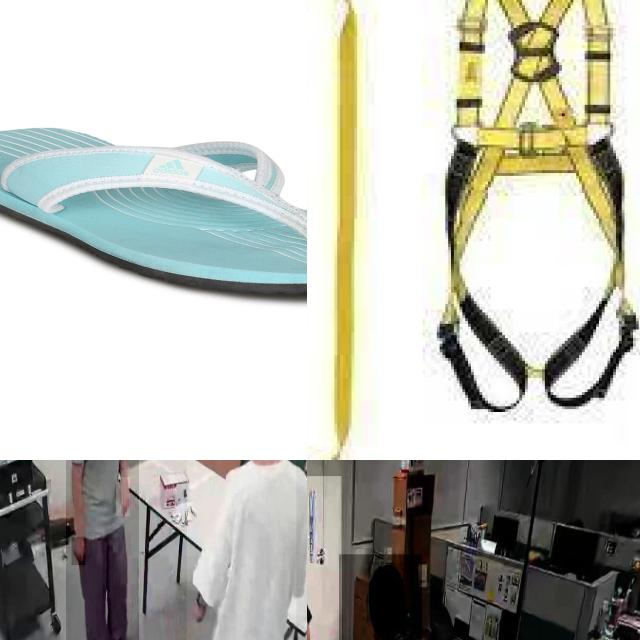Harness: (434, 0, 636, 413)
Sandals: (0, 125, 307, 297)
hand_noglove: (116, 477, 130, 517), (72, 537, 86, 566)
head_nohelmet: (368, 562, 404, 600)
person: (187, 460, 297, 640), (66, 460, 139, 640)
shoes: (105, 628, 132, 640)
